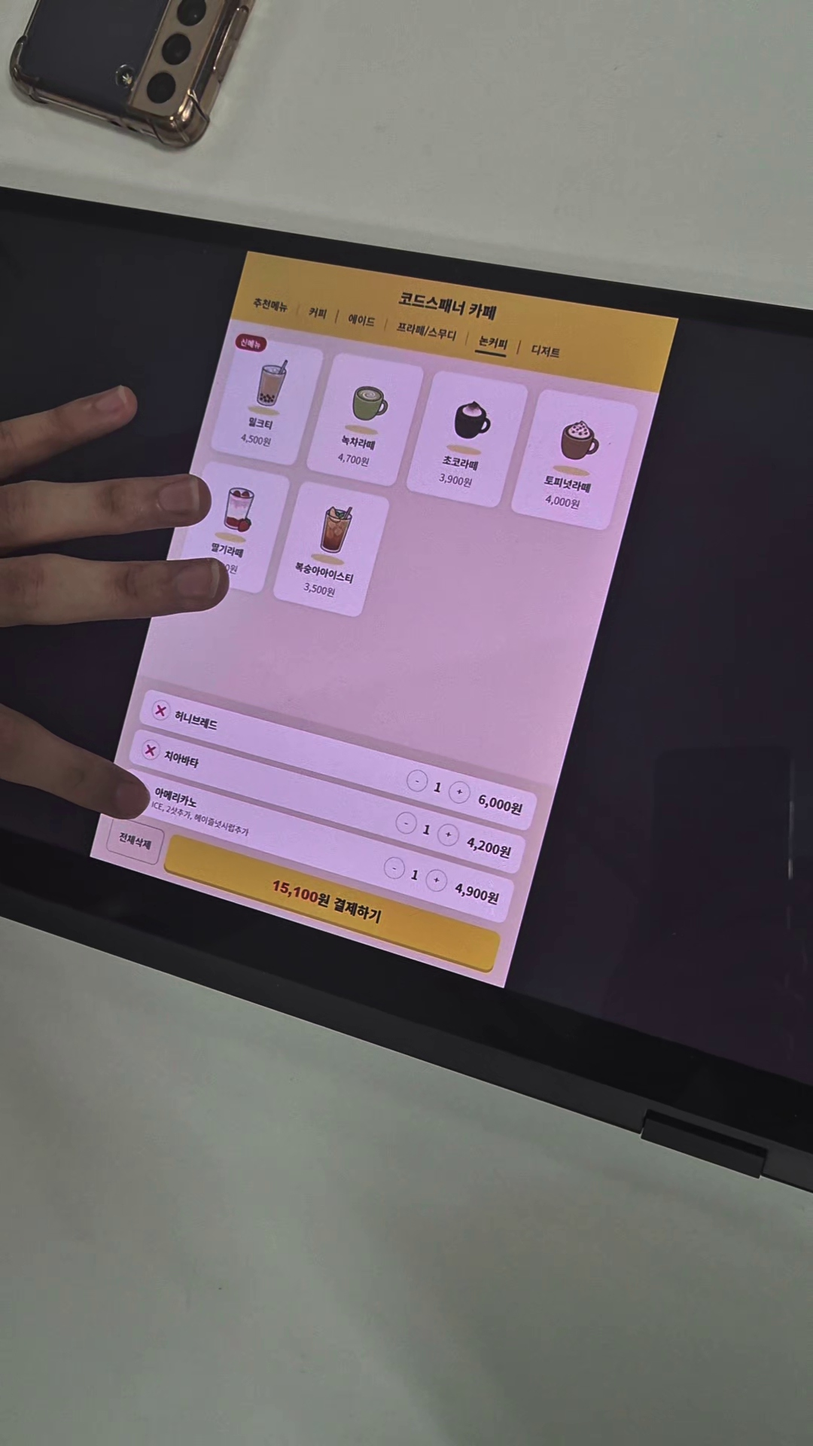action_button: (163, 833, 502, 965), (104, 816, 166, 866)
cart_item: (117, 769, 515, 925), (128, 728, 527, 875), (139, 690, 540, 831)
category_tab: (508, 388, 640, 532), (404, 370, 529, 508), (271, 480, 391, 618), (304, 352, 425, 488), (175, 460, 293, 594), (210, 334, 323, 467), (396, 320, 459, 343), (250, 294, 289, 315), (477, 335, 509, 352), (530, 343, 561, 360), (346, 312, 376, 329), (304, 305, 330, 320)
menu_name: (292, 561, 355, 584), (151, 785, 200, 813), (170, 709, 220, 736), (542, 473, 592, 494), (160, 748, 201, 770), (336, 433, 376, 452), (440, 455, 480, 473), (208, 542, 245, 560), (246, 415, 275, 431)
menu_price: (464, 834, 515, 862), (451, 880, 502, 908), (473, 791, 524, 819), (543, 492, 581, 510), (334, 451, 372, 469), (436, 472, 474, 489), (302, 581, 336, 598), (238, 432, 272, 449)
